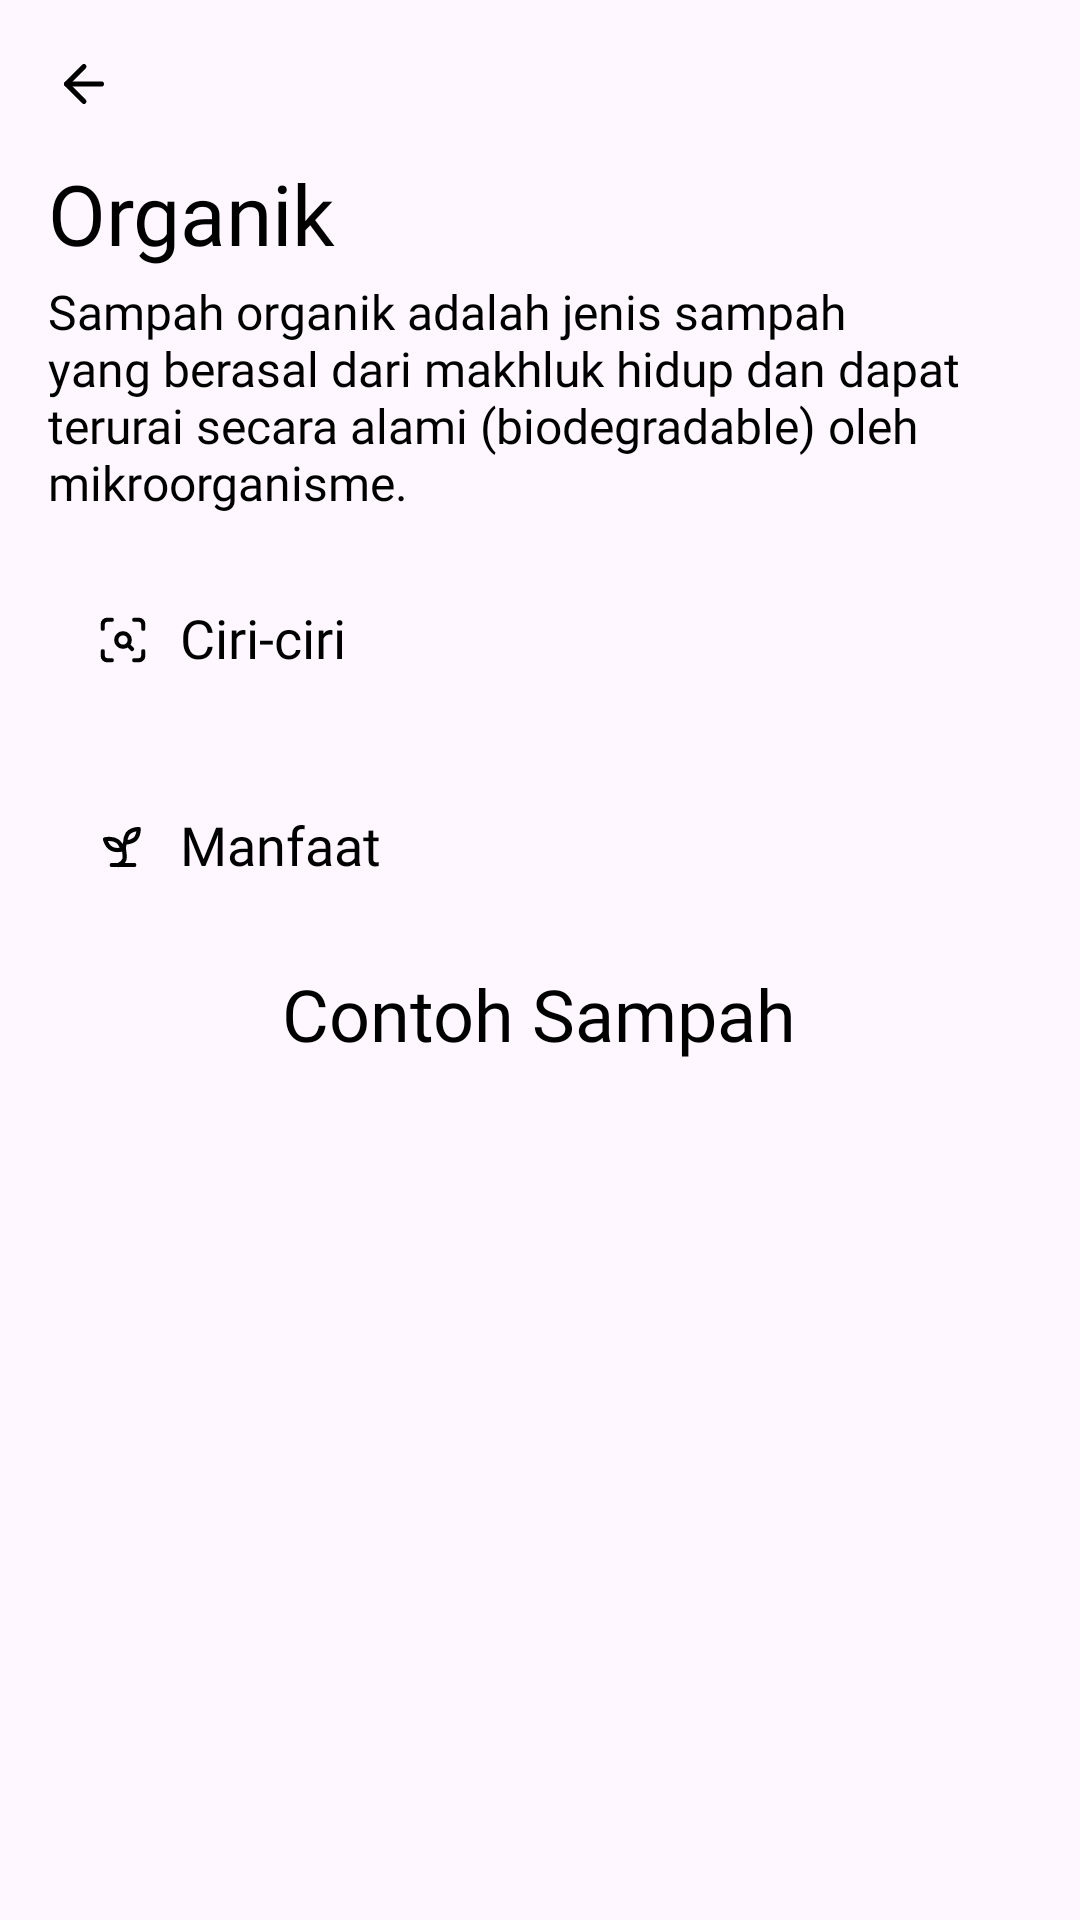

Locate icon controls on the screen. Image size 1080px×1920px, boxes as [left=x1, top=y1, right=x2, bottom=y2].
arrow left: [left=64, top=64, right=104, bottom=104]
scan search: [left=100, top=617, right=146, bottom=663]
sprout: [left=103, top=827, right=141, bottom=868]
